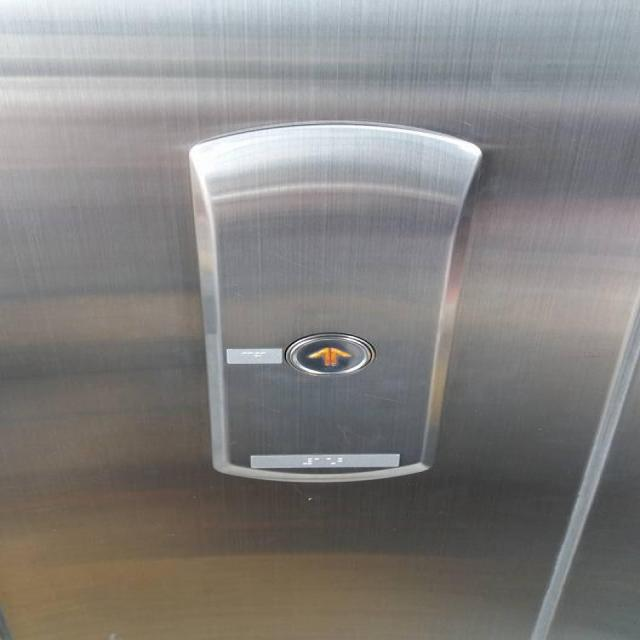up: (285, 331, 374, 379)
